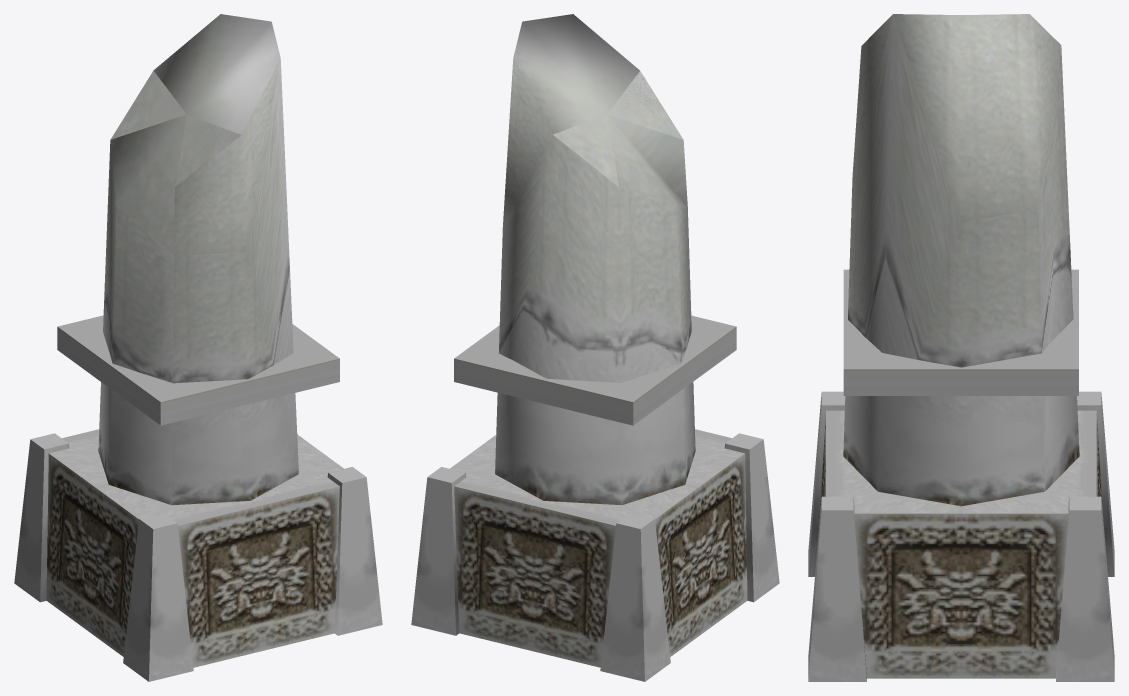
File: general_obj_bigtower01_lod_01.fbx
The picture shows the model from 3 angles, left to right: view 1: azimuth 30°, elevation 25°; view 2: azimuth 150°, elevation 25°; view 3: azimuth 270°, elevation 25°; orthographic projection. The views are drawn at different scales.
Parts seen in each view (by area): view 1: Sphere01; view 2: Sphere01; view 3: Sphere01.
Boxes of the visible parts, bbox=[...] form: Sphere01: bbox=[14, 14, 382, 681]; Sphere01: bbox=[411, 14, 779, 681]; Sphere01: bbox=[808, 14, 1114, 681].
Size of the model in its own units: 5.22 by 12.05 by 5.21.
